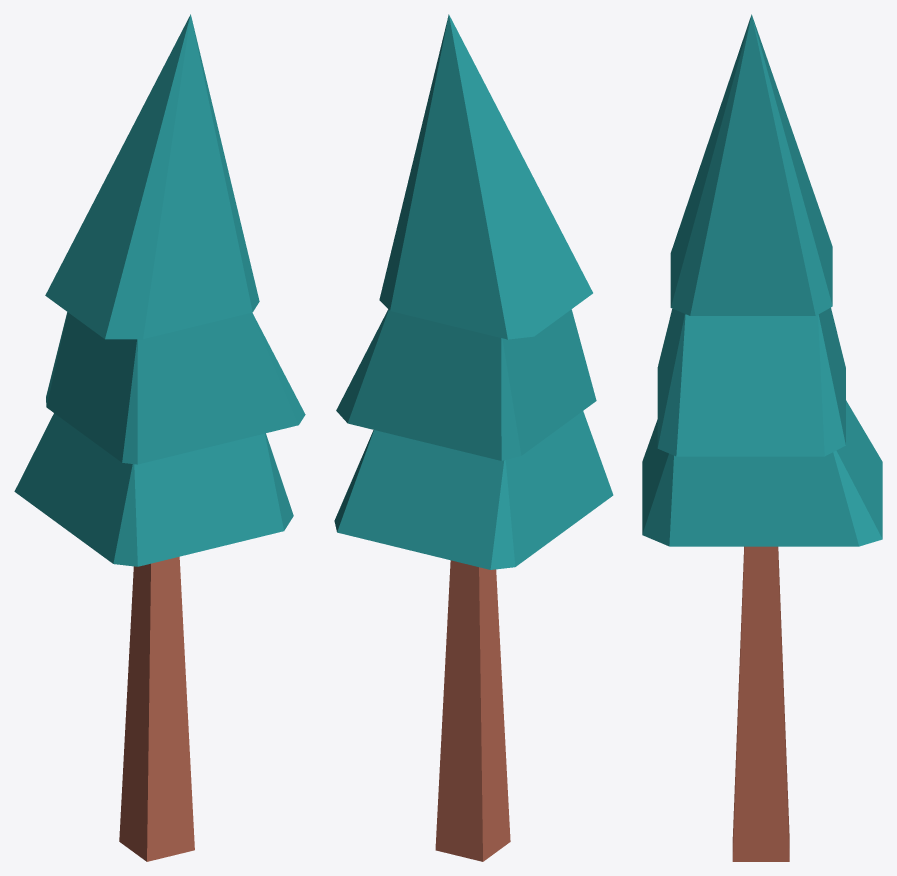
File: tree_pineTallA.dae
The picture shows the model from 3 angles, left to right: view 1: azimuth 30°, elevation 25°; view 2: azimuth 150°, elevation 25°; view 3: azimuth 270°, elevation 25°; orthographic projection. The views are drawn at different scales.
Parts seen in each view (by area): view 1: tree_pineTallA; view 2: tree_pineTallA; view 3: tree_pineTallA.
Boxes of the visible parts, <box> form: tree_pineTallA: <box>14,14,305,861</box>; tree_pineTallA: <box>334,14,613,861</box>; tree_pineTallA: <box>642,14,882,861</box>.
Bounding box in the file's own units: 0.3863 × 1.53 × 0.392.
